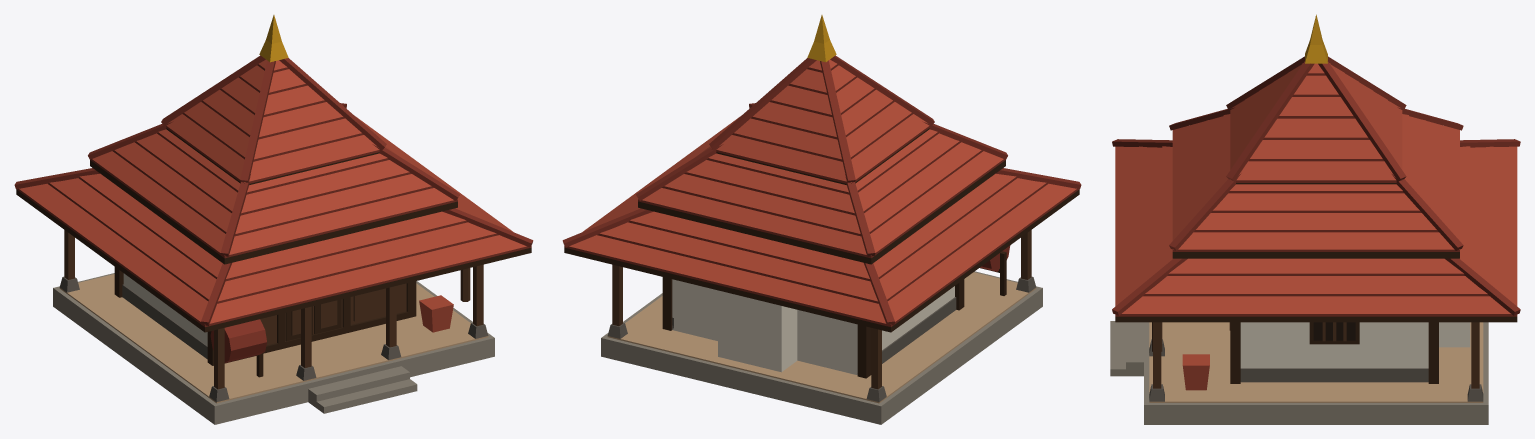
Rendered from rumah_tajug.glb.
3 views of the same model, side by side, from view 1: azimuth 30°, elevation 25°; view 2: azimuth 150°, elevation 25°; view 3: azimuth 270°, elevation 25° (orthographic). The views are drawn at different scales.
Parts seen in each view (by area): view 1: rumah_tajug; view 2: rumah_tajug; view 3: rumah_tajug.
Boxes of the visible parts, bbox=[...] form: rumah_tajug: bbox=[14, 15, 533, 424]; rumah_tajug: bbox=[562, 15, 1081, 424]; rumah_tajug: bbox=[1110, 14, 1520, 424].
Size of the model in its own units: 7.83 by 7.15 by 7.87.
